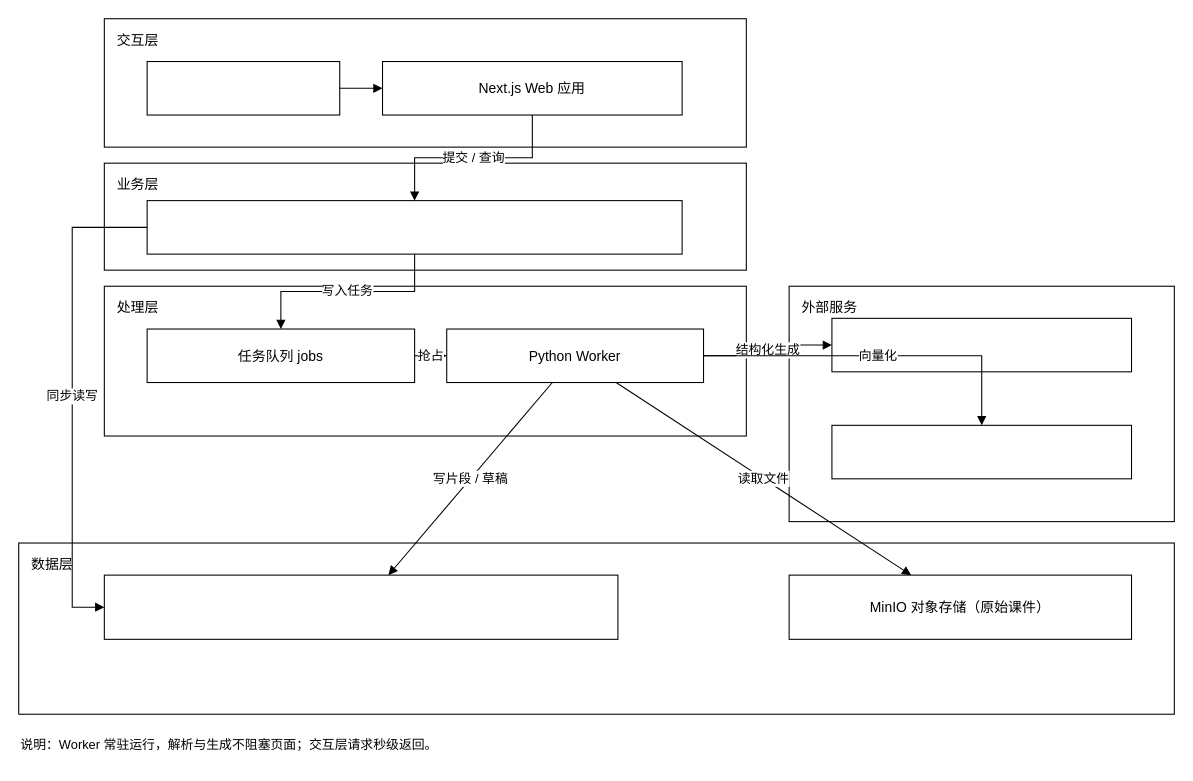
The diagram is 1193 pixels wide and 781 high, and some of its shapes have lost their labels. Here are the shapes that lost their labels. From the top down, the centre of each, then its label:
At [243,87]: "学生（浏览器 / 手机）".
At [414,227]: "Server Action · 规则引擎 · 状态机".
At [981,344]: "LLM API（DeepSeek / Qwen）".
At [981,451]: "本地 Ollama（bge-m3）".
At [360,606]: "PostgreSQL + pgvector".
